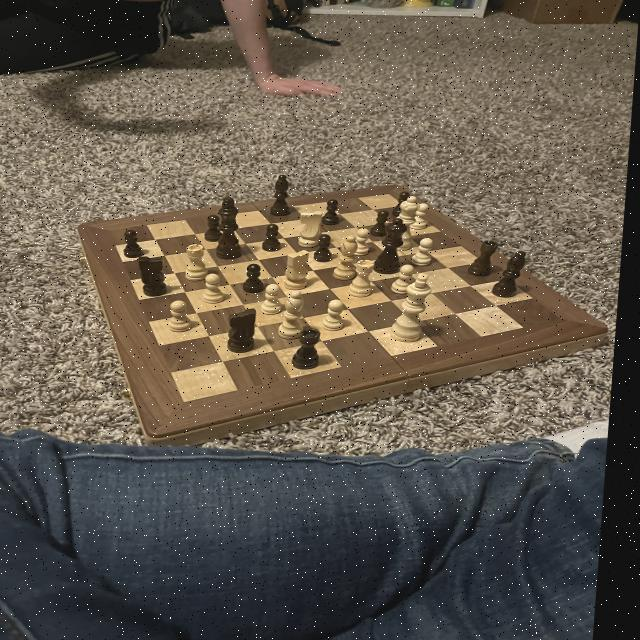bishop: (494, 249, 537, 300), (273, 172, 298, 219)
black-bishop: (217, 195, 251, 261)
black-king: (230, 306, 267, 356), (139, 254, 177, 298)
black-knight: (246, 261, 272, 296), (123, 229, 153, 259), (315, 234, 341, 264), (265, 222, 288, 252), (207, 214, 229, 244), (324, 197, 346, 226), (395, 190, 418, 217), (373, 210, 395, 237)
black-pawn: (377, 217, 416, 276)
black-queen: (293, 327, 334, 371), (470, 238, 506, 278)
black-rook: (335, 232, 370, 282), (281, 289, 313, 343)
white-bishop: (393, 272, 439, 344)
white-king: (287, 248, 319, 292), (299, 208, 333, 249)
white-knight: (170, 298, 205, 334), (201, 272, 235, 306), (394, 263, 424, 298), (264, 282, 293, 318), (326, 297, 355, 333), (353, 223, 379, 257), (414, 237, 442, 267), (413, 200, 435, 230)
white-pawn: (395, 194, 427, 251)
white-queen: (349, 256, 384, 299), (186, 243, 218, 283)
